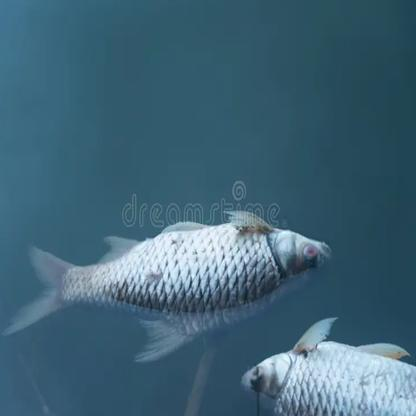deceased fish: (5, 208, 334, 363), (238, 320, 416, 416)
